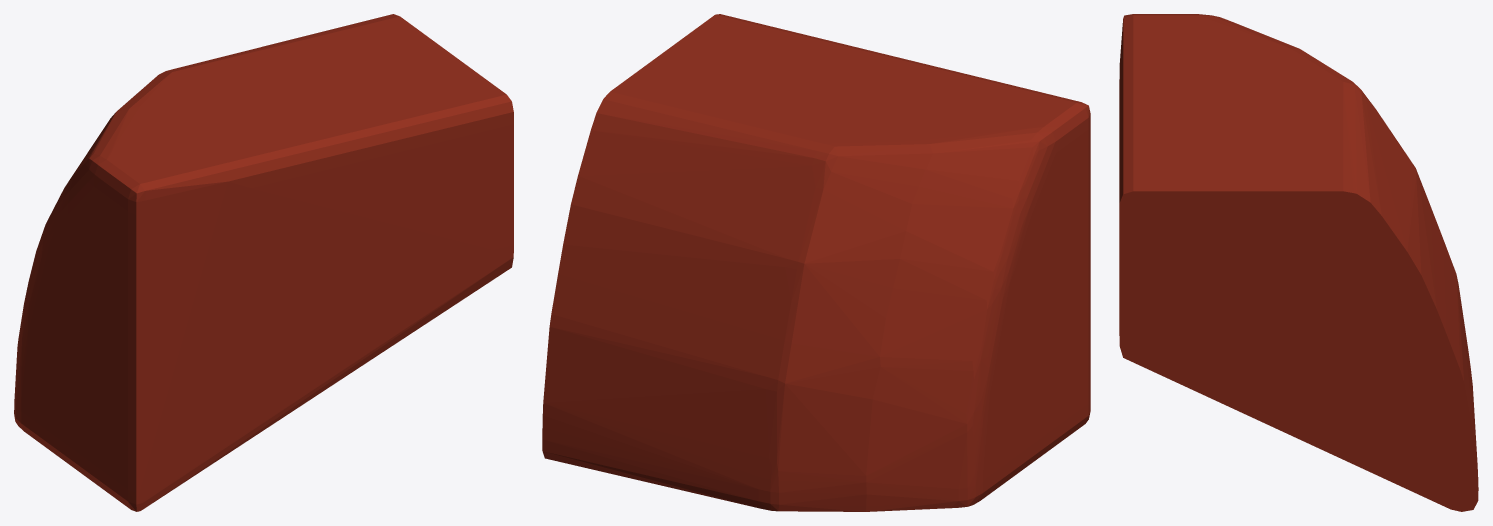
The model's file is left_hip_yaw_link_part_15.obj.
3 renders of one model, left to right at view 1: azimuth 30°, elevation 25°; view 2: azimuth 150°, elevation 25°; view 3: azimuth 270°, elevation 25°, orthographic.
Bounding box in the file's own units: 0.0404 × 0.0333 × 0.0337.
